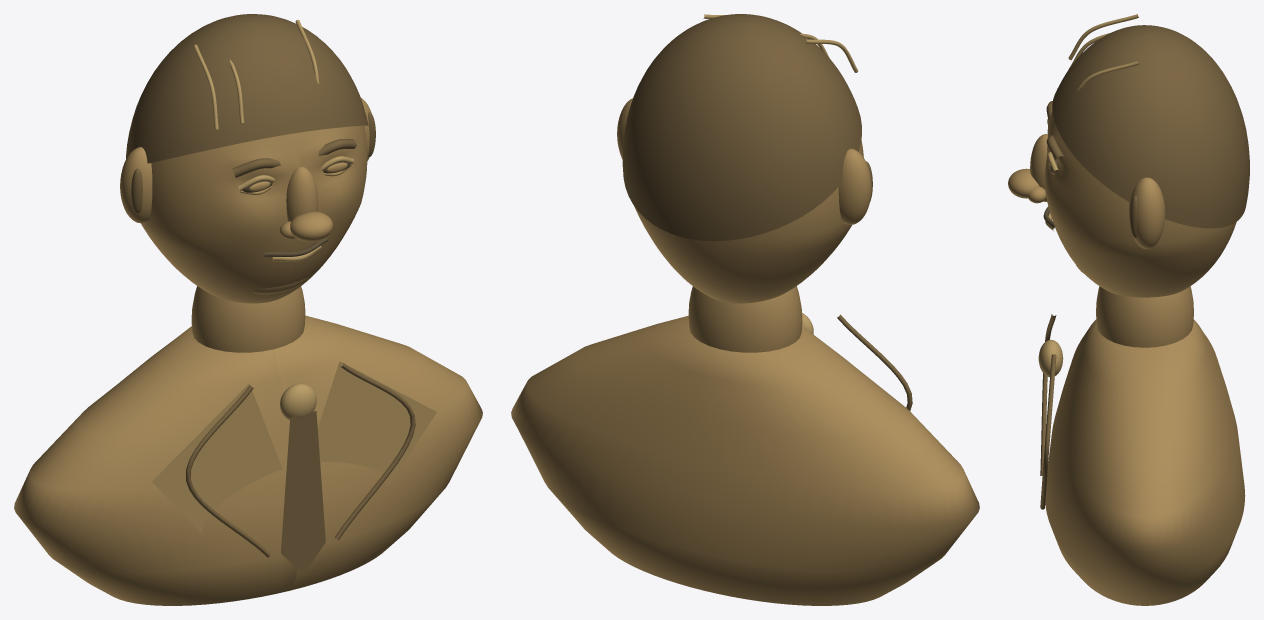
The model's file is vargas.glb.
3 views of the same model, side by side, from view 1: azimuth 30°, elevation 25°; view 2: azimuth 150°, elevation 25°; view 3: azimuth 270°, elevation 25° (orthographic). The views are drawn at different scales.
Parts seen in each view (by area): view 1: vargas; view 2: vargas; view 3: vargas.
Boxes of the visible parts, <box> form: vargas: <box>14,14,482,605</box>; vargas: <box>511,14,979,605</box>; vargas: <box>1008,14,1249,605</box>.
Size of the model in its own units: 1.22 by 1.37 by 0.5917.
